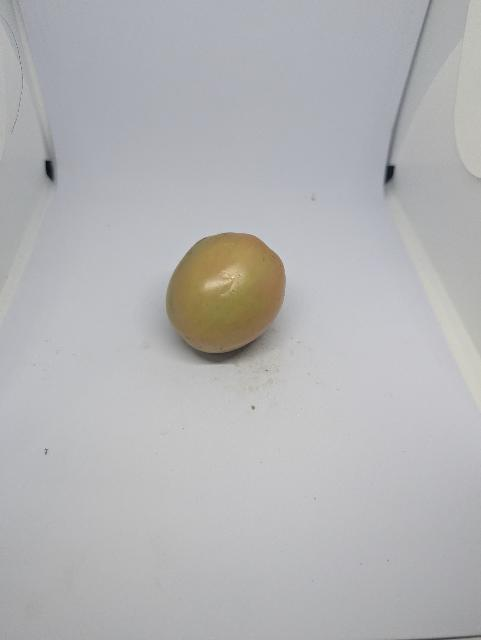breaker: (159, 221, 300, 363)
